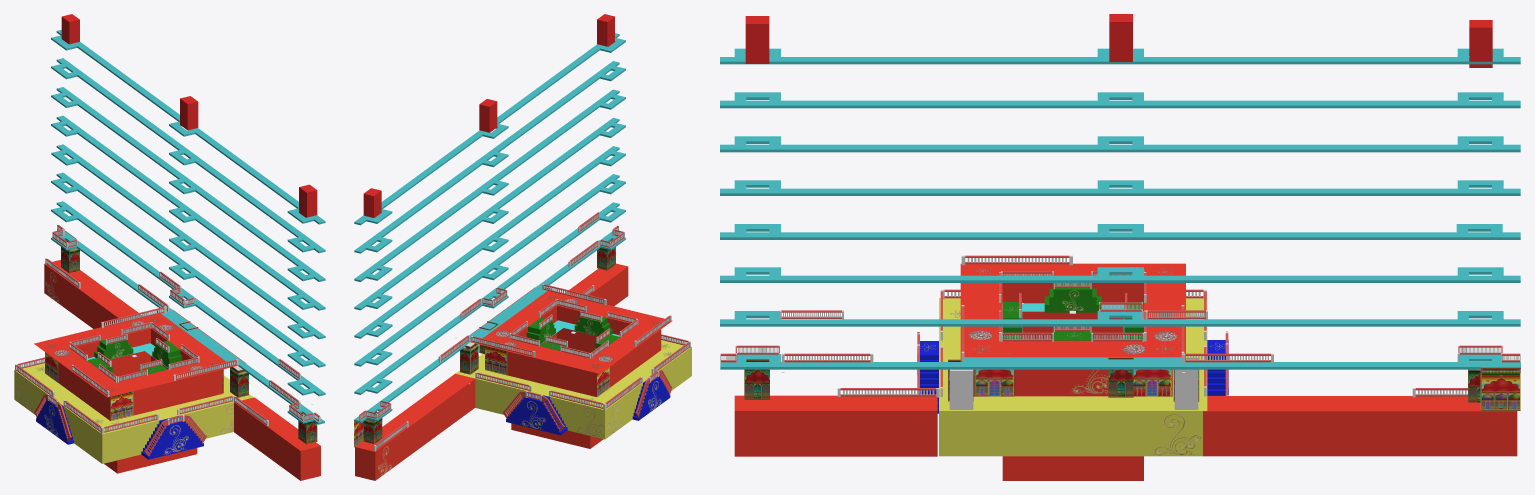
File: ShriKhadokali.glb
3 renders of one model, left to right at view 1: azimuth 30°, elevation 25°; view 2: azimuth 150°, elevation 25°; view 3: azimuth 270°, elevation 25°, orthographic. The views are drawn at different scales.
Visible parts, largest first — view 1: KhadokaliTop.001, Cube.011, Cube.008, Cube.016, Cube.020, Cube.032, Cube.024, Cube.028, Cube.040, Cube.012, Cube.036, Seediyan.001 (+16 smaller); view 2: KhadokaliTop.001, Cube.008, Cube.016, Cube.020, Cube.032, Cube.024, Cube.028, Cube.040, Cube.012, Cube.036, Cube.011, Seediyan (+14 smaller); view 3: KhadokaliTop.001, Cube.008, Cube.011, Cube.040, Cube.032, Cube.028, Cube.020, Cube.012, Cube.016, Cube.024, Cube.036, Rangmehel Mandir baahri shobha 3 haath.003 (+16 smaller).
Part boxes in pixels (box(x1,y1,x2,y2)): KhadokaliTop.001: box(14, 310, 253, 473); Cube.011: box(234, 397, 320, 480); Cube.008: box(44, 260, 141, 328); Cube.016: box(56, 172, 325, 367); Cube.020: box(56, 144, 325, 339); Cube.032: box(56, 58, 325, 253); Cube.024: box(56, 115, 325, 310); Cube.028: box(56, 87, 325, 281); Cube.040: box(58, 231, 324, 424); Cube.012: box(56, 201, 325, 396); Cube.036: box(56, 30, 325, 224); Seediyan.001: box(141, 416, 203, 459); KhadokaliTop.001: box(455, 287, 691, 448); Cube.008: box(355, 373, 475, 480); Cube.016: box(354, 174, 619, 366); Cube.020: box(354, 146, 619, 338); Cube.032: box(354, 61, 619, 253); Cube.024: box(354, 117, 619, 310); Cube.028: box(354, 89, 619, 281); Cube.040: box(354, 231, 619, 422); Cube.012: box(354, 202, 619, 394); Cube.036: box(354, 33, 619, 225); Cube.011: box(566, 263, 628, 306); Seediyan: box(506, 394, 567, 435); KhadokaliTop.001: box(939, 263, 1207, 480); Cube.008: box(1203, 396, 1517, 456); Cube.011: box(734, 395, 937, 456); Cube.040: box(720, 357, 1520, 369); Cube.032: box(720, 100, 1520, 108); Cube.028: box(720, 144, 1520, 152); Cube.020: box(720, 232, 1520, 239); Cube.012: box(720, 319, 1520, 326); Cube.016: box(720, 275, 1520, 282); Cube.024: box(720, 188, 1520, 195); Cube.036: box(720, 57, 1520, 64); Rangmehel Mandir baahri shobha 3 haath.003: box(1480, 367, 1520, 410).
Bounding box in the file's own units: 11.71 × 21.43 × 32.01.
18 materials, 6 textured.
